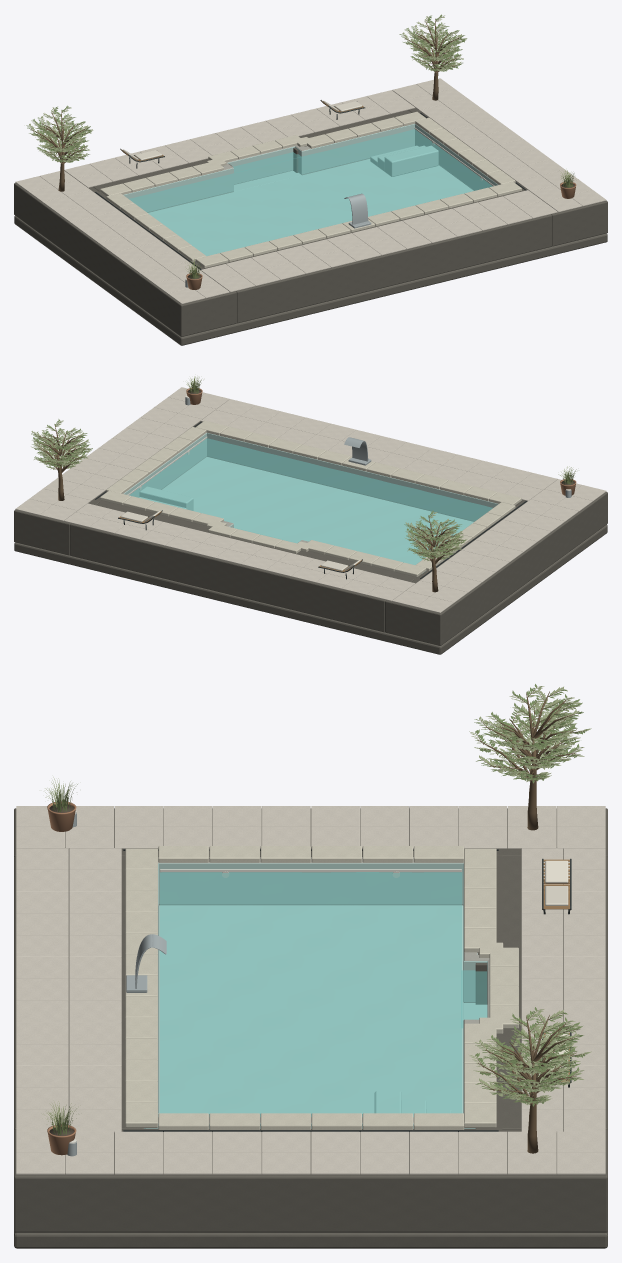
Rendered from piscina-vrIkjnrt.glb.
3 views of the same model, one above another, from view 1: azimuth 30°, elevation 25°; view 2: azimuth 150°, elevation 25°; view 3: azimuth 270°, elevation 25° (orthographic). The views are drawn at different scales.
Parts seen in each view (by area): view 1: phase_finish__paving, phase_site__soil, phase_details__water, phase_structure__pool_liner, phase_finish__limestone, phase_envelope__pool_liner, phase_details__HF_olive_foliage.001, phase_details__HF_olive_leaf_silver.001, phase_details__HF_olive_bark.001, phase_details__metal, phase_structure__concrete; view 2: phase_finish__paving, phase_site__soil, phase_details__water, phase_structure__pool_liner, phase_finish__limestone, phase_envelope__pool_liner, phase_details__HF_olive_foliage.001, phase_details__HF_olive_leaf_silver.001, phase_details__HF_olive_bark.001, phase_details__metal, phase_structure__concrete, phase_details__HF_linen.001; view 3: phase_finish__paving, phase_details__water, phase_structure__pool_liner, phase_site__soil, phase_finish__limestone, phase_envelope__pool_liner, phase_details__HF_olive_leaf_silver.001, phase_details__HF_olive_foliage.001, phase_details__HF_olive_bark.001, phase_structure__concrete, phase_details__HF_linen.001, phase_details__metal (+4 smaller).
Boxes of the visible parts, <box> form: phase_finish__paving: <box>15,78,606,304</box>; phase_site__soil: <box>14,108,607,345</box>; phase_details__water: <box>129,129,492,255</box>; phase_structure__pool_liner: <box>148,159,473,255</box>; phase_finish__limestone: <box>100,111,521,268</box>; phase_envelope__pool_liner: <box>123,124,497,265</box>; phase_details__HF_olive_foliage.001: <box>26,14,464,162</box>; phase_details__HF_olive_leaf_silver.001: <box>29,15,467,162</box>; phase_details__HF_olive_bark.001: <box>30,18,461,191</box>; phase_details__metal: <box>185,193,371,287</box>; phase_structure__concrete: <box>131,123,498,212</box>; phase_finish__paving: <box>15,387,606,612</box>; phase_site__soil: <box>14,421,607,654</box>; phase_details__water: <box>129,438,492,564</box>; phase_structure__pool_liner: <box>162,457,473,564</box>; phase_finish__limestone: <box>100,420,521,577</box>; phase_envelope__pool_liner: <box>124,433,498,573</box>; phase_details__HF_olive_foliage.001: <box>31,419,466,559</box>; phase_details__HF_olive_leaf_silver.001: <box>31,420,464,560</box>; phase_details__HF_olive_bark.001: <box>34,423,462,592</box>; phase_details__metal: <box>185,397,571,497</box>; phase_structure__concrete: <box>123,432,488,542</box>; phase_details__HF_linen.001: <box>121,511,360,570</box>; phase_finish__paving: <box>16,806,605,1174</box>; phase_details__water: <box>159,872,486,1116</box>; phase_structure__pool_liner: <box>158,905,487,1116</box>; phase_site__soil: <box>14,808,607,1248</box>; phase_finish__limestone: <box>125,846,518,1130</box>; phase_envelope__pool_liner: <box>144,863,487,1128</box>; phase_details__HF_olive_leaf_silver.001: <box>469,686,591,1104</box>; phase_details__HF_olive_foliage.001: <box>474,684,587,1106</box>; phase_details__HF_olive_bark.001: <box>476,687,585,1153</box>; phase_structure__concrete: <box>158,857,489,1123</box>; phase_details__HF_linen.001: <box>545,860,568,1079</box>; phase_details__metal: <box>67,812,166,1156</box>.
Bounding box in the file's own units: 12.92 × 3.33 × 8.7.
18 materials, 4 textured.
